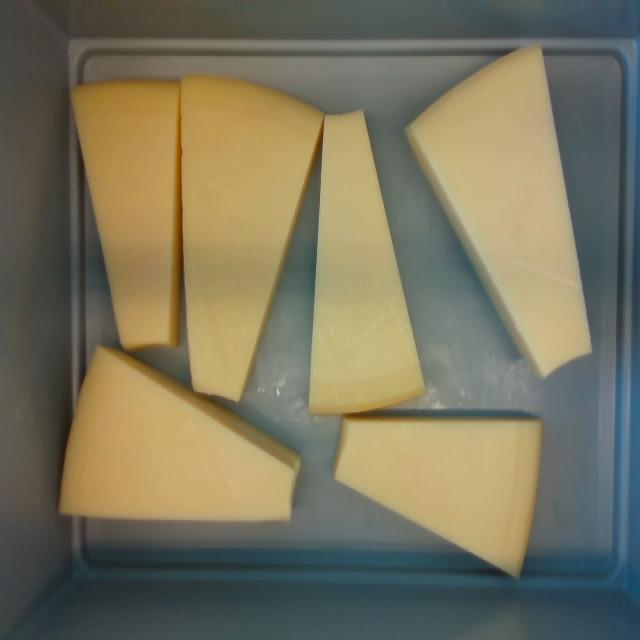cheese: (407, 48, 589, 375), (182, 79, 323, 403), (61, 348, 295, 517), (309, 112, 424, 415), (336, 417, 541, 575), (75, 83, 178, 348)
